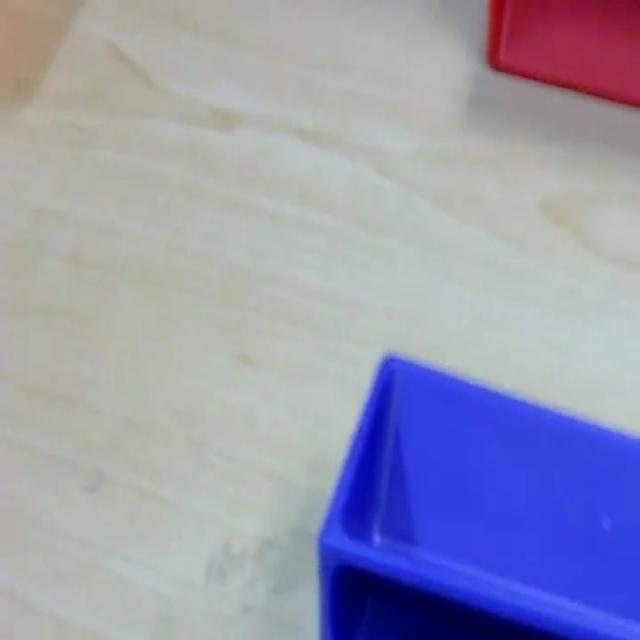blue_block: (316, 350, 638, 638)
red_block: (486, 0, 638, 107)
